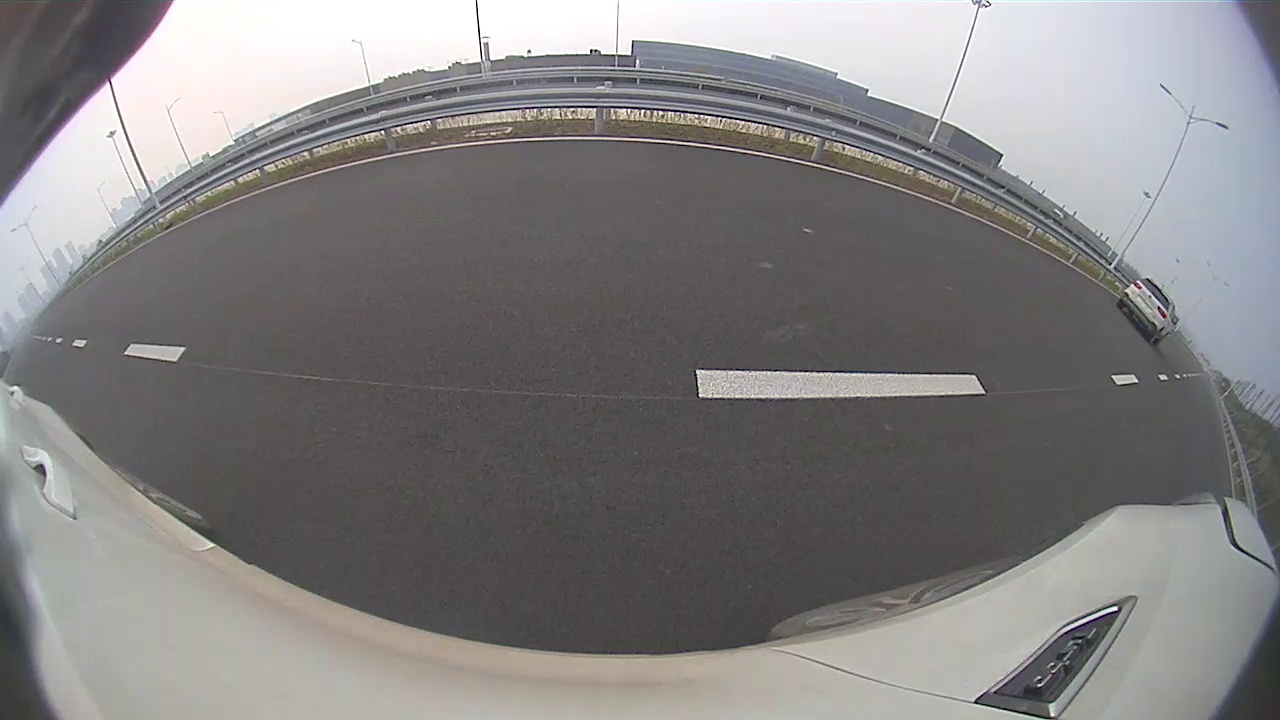car: (1117, 277, 1179, 344)
